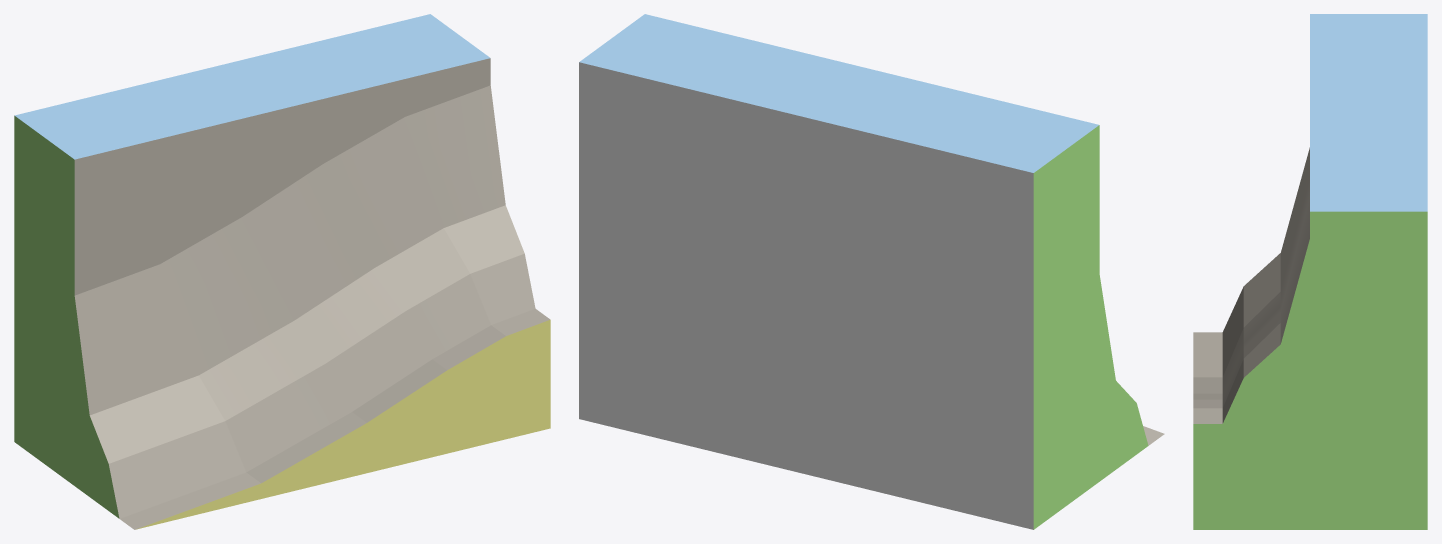
Rendered from Wall_Incline_2x4_Base.glb.
3 renders of one model, left to right at view 1: azimuth 30°, elevation 25°; view 2: azimuth 150°, elevation 25°; view 3: azimuth 270°, elevation 25°, orthographic. The views are drawn at different scales.
Visible parts, largest first — view 1: Wall_Incline_2x4_Base; view 2: Wall_Incline_2x4_Base; view 3: Wall_Incline_2x4_Base.
Boxes of the visible parts, x1,y1,x2,y2 form: Wall_Incline_2x4_Base: (14,14,550,529); Wall_Incline_2x4_Base: (579,14,1164,529); Wall_Incline_2x4_Base: (1193,14,1427,529).
Bounding box in the file's own units: 400 × 300 × 200.
